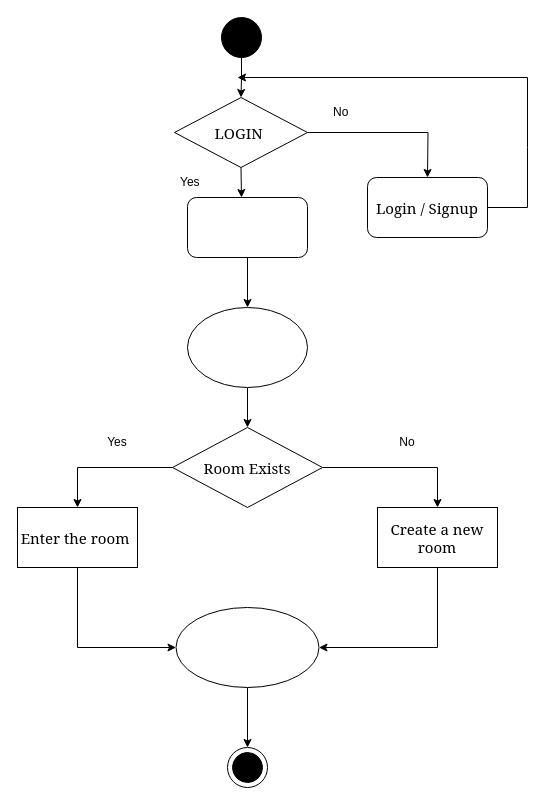
The diagram is 553 pixels wide and 805 high, and some of its shapes have lost their labels. The box of each missing label's shape, as (x1, y1, x2, y2) in pixels:
Enjoy Streaming/Chatting: (175, 606, 319, 688)
Enter Room Name: (186, 306, 308, 388)
Lobby: (186, 196, 308, 258)
